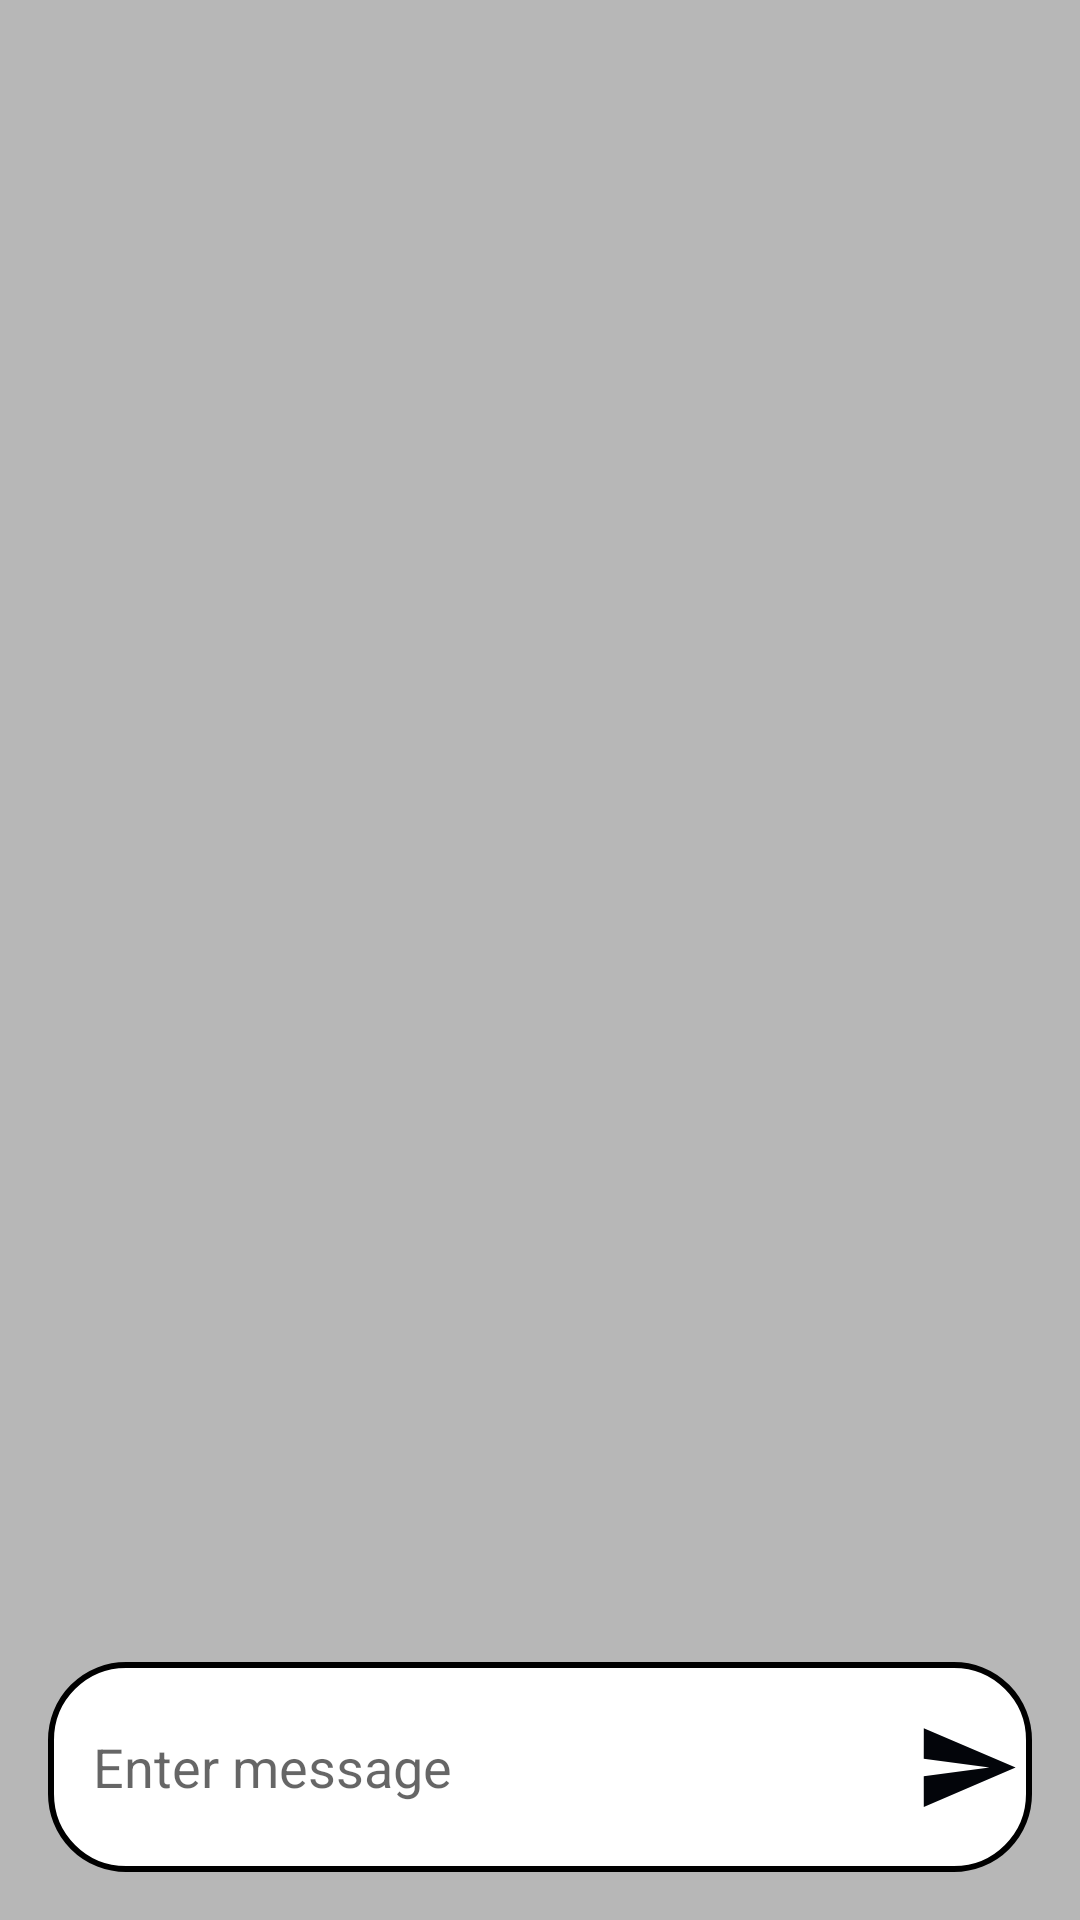

Icons on this 1080px×1920px Android screen, each with its box as bbox=[x1, y1, x2, y2]:
send: bbox=[923, 1728, 1016, 1807]
